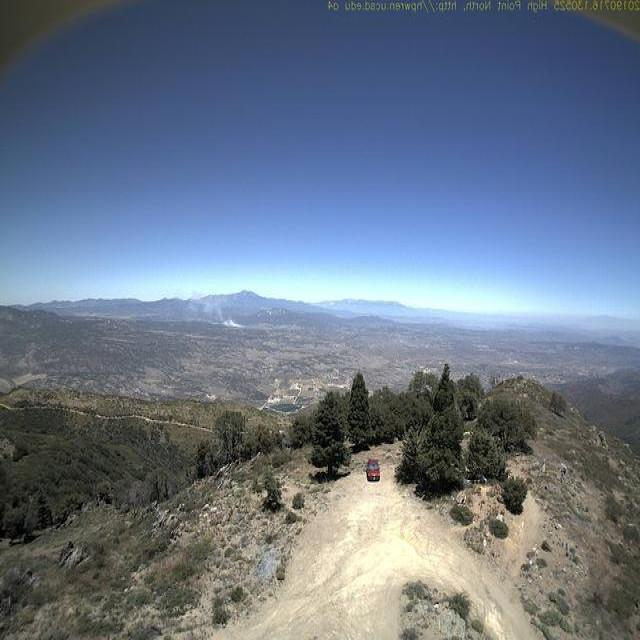smoke: (185, 284, 255, 333)
